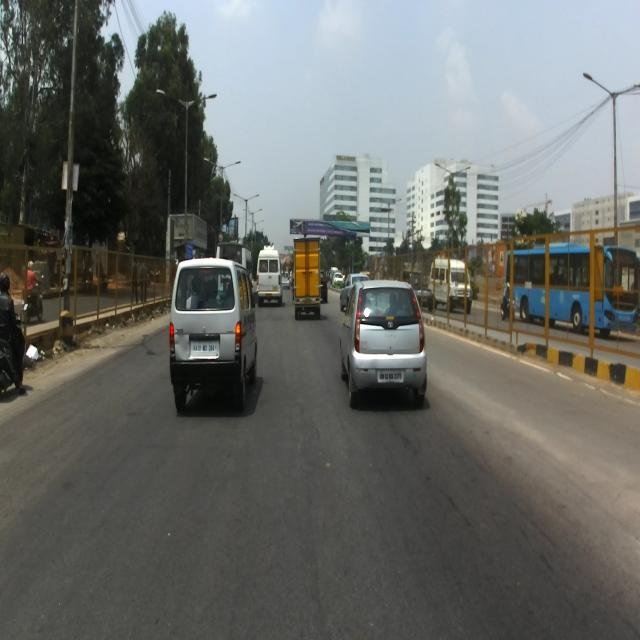Car_Maruti-Suzuki: (168, 256, 259, 411)
Car_TATA: (338, 278, 427, 409)
bus: (504, 242, 639, 336)
motorcycle: (0, 298, 28, 394)
truck: (292, 236, 322, 320)
